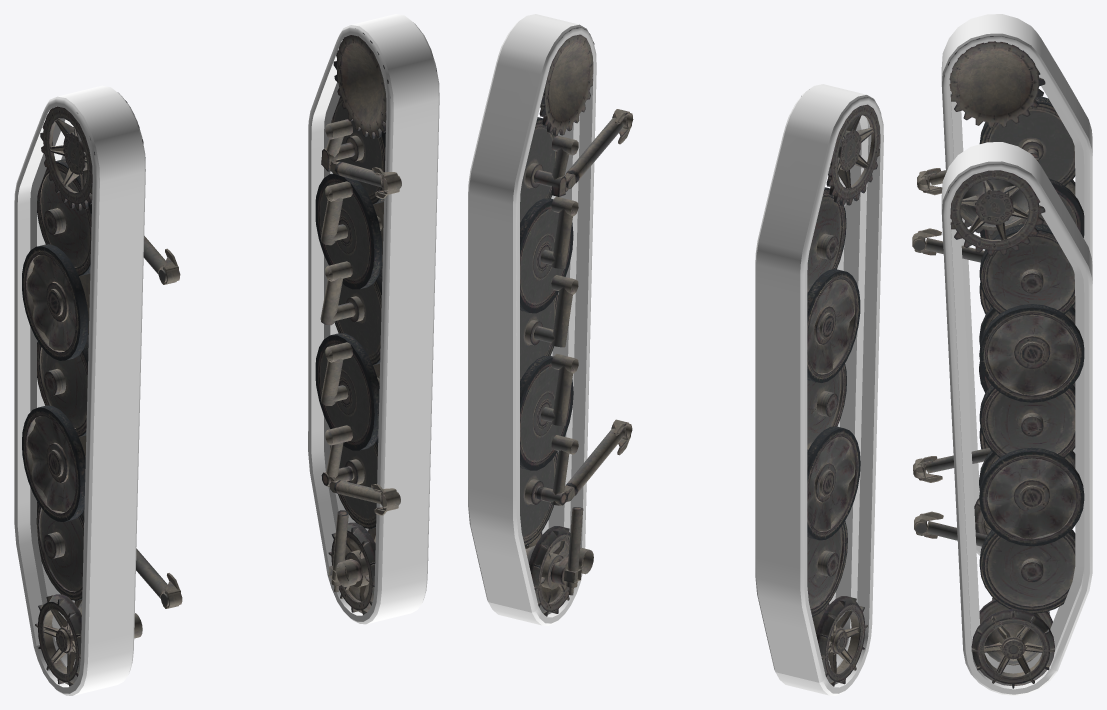
File: Chassis.glb
3 views of the same model, side by side, from view 1: azimuth 30°, elevation 25°; view 2: azimuth 150°, elevation 25°; view 3: azimuth 270°, elevation 25° (orthographic). The views are drawn at different scales.
Parts seen in each view (by area): view 1: set_3_group_0, set_2_group_0, set_0_group_0, set_1_group_0; view 2: set_3_group_0, set_2_group_0, set_0_group_0, set_1_group_0; view 3: set_0_group_0, set_2_group_0, set_1_group_0, set_3_group_0.
Boxes of the visible parts, bbox=[...] form: set_3_group_0: bbox=[14, 85, 145, 695]; set_2_group_0: bbox=[308, 14, 439, 624]; set_0_group_0: bbox=[315, 28, 436, 614]; set_1_group_0: bbox=[22, 92, 182, 686]; set_3_group_0: bbox=[755, 84, 883, 695]; set_2_group_0: bbox=[468, 14, 596, 625]; set_0_group_0: bbox=[520, 27, 633, 616]; set_1_group_0: bbox=[801, 96, 880, 686]; set_0_group_0: bbox=[912, 166, 1084, 688]; set_2_group_0: bbox=[941, 142, 1092, 695]; set_1_group_0: bbox=[913, 36, 1084, 535]; set_3_group_0: bbox=[941, 14, 1092, 555].
Bounding box in the file's own units: 2.48 × 4.13 × 1.26.
Materials: 4 (2 with a texture image).
